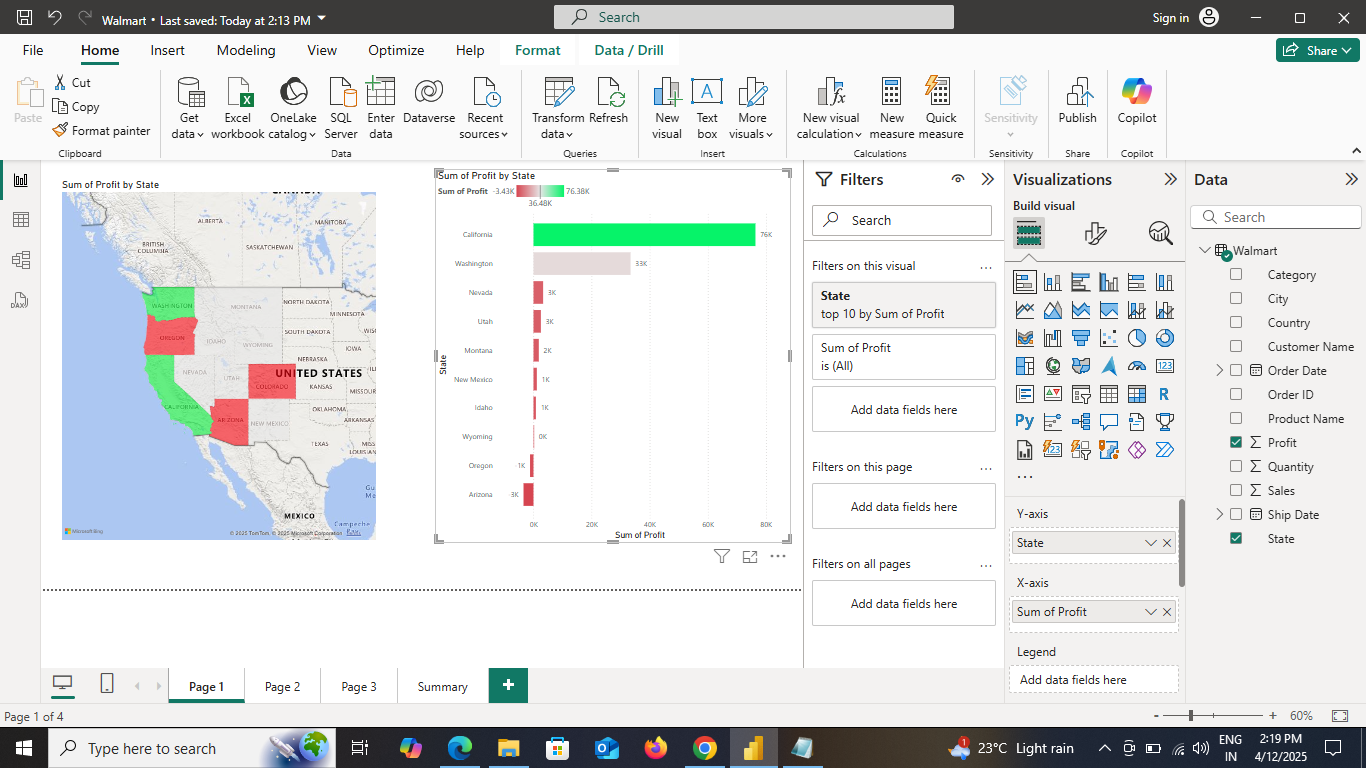

The dashboard page shown, as its layout file describes it:
{"tool":"powerbi","page":{"name":"Page 1","canvas":[1280,720],"ordinal":0},"visuals":[{"type":"filledMap","fields":{"Category":["Walmart.State"]},"box":[30.2,30.2,537.5,613.1],"z":0},{"type":"barChart","fields":{"Y":["Sum(Walmart.Profit)"],"Category":["Walmart.State"]},"box":[661.8,15.1,598,628.2],"z":1000}]}

Visuals, with their boxes on the page's 1280x720 design canvas (x1, y1, x2, y2). These are canvas units, not pixel positions in the 1366x768 screenshot, which may show the page scaled, cropped or inside an application window:
filledMap - Walmart.State: 30, 30, 568, 643
barChart - Sum(Walmart.Profit) x Walmart.State: 662, 15, 1260, 643
